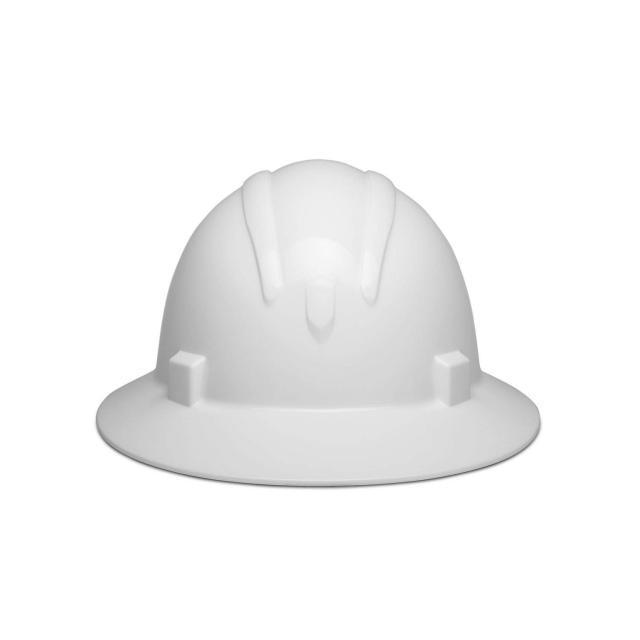safety_helmet: (94, 160, 543, 490)
